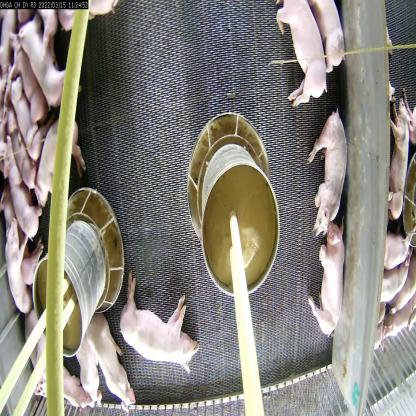Pig: (117, 293, 204, 372), (267, 2, 324, 110), (292, 0, 352, 85), (304, 228, 349, 340), (30, 115, 88, 193), (90, 304, 134, 405), (28, 10, 70, 100), (2, 141, 42, 225), (37, 342, 83, 415), (314, 113, 340, 238), (8, 30, 48, 108), (0, 203, 24, 319)
